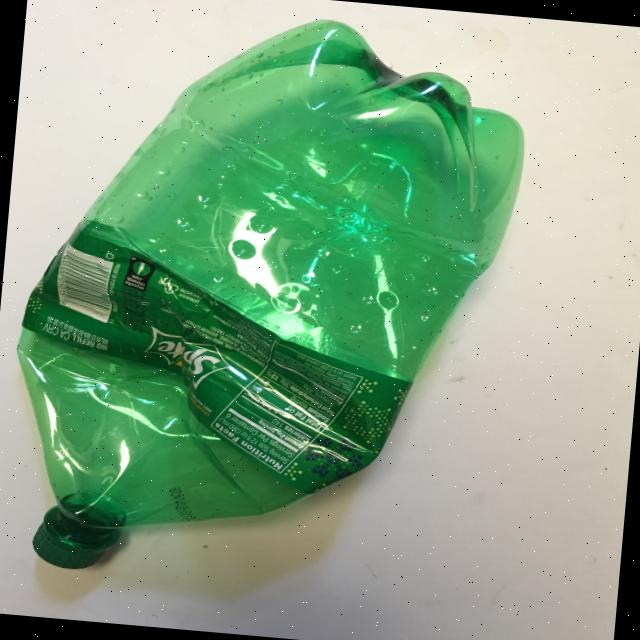plastic: (0, 0, 534, 604)
